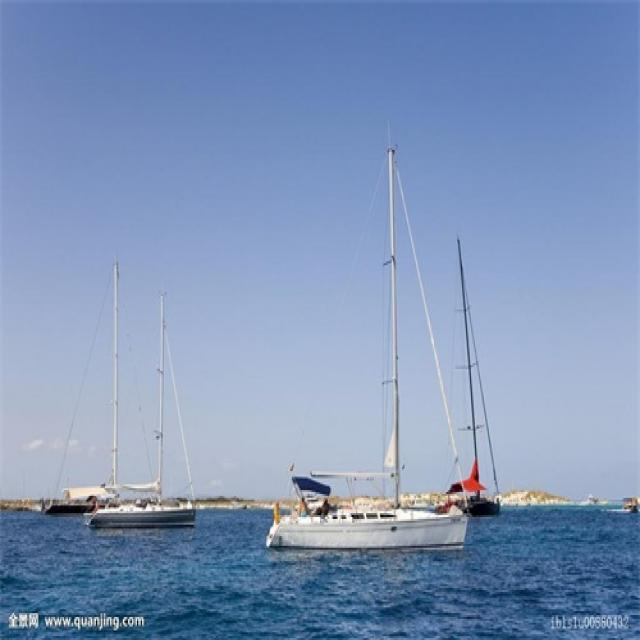Ship: (258, 144, 478, 557), (45, 262, 210, 533), (453, 237, 506, 517)
